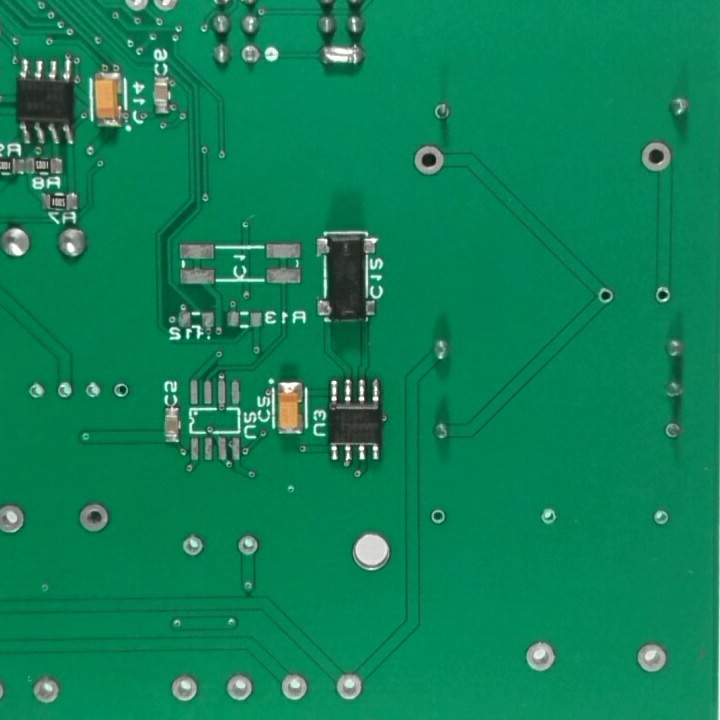F: (633, 639, 672, 678), (636, 138, 676, 176), (410, 144, 450, 180), (76, 500, 113, 535), (524, 638, 559, 673), (169, 669, 202, 704), (276, 669, 310, 702), (1, 501, 32, 537), (222, 671, 256, 703), (31, 674, 64, 704), (333, 672, 367, 701), (177, 532, 207, 560), (237, 42, 262, 69), (236, 532, 261, 559), (431, 99, 455, 123), (25, 378, 45, 406), (651, 507, 673, 532), (56, 378, 76, 404), (597, 283, 615, 309), (663, 419, 684, 441), (650, 287, 675, 305), (83, 380, 104, 401), (110, 381, 133, 400), (538, 503, 557, 526), (430, 508, 447, 529)
P: (316, 38, 369, 72)
